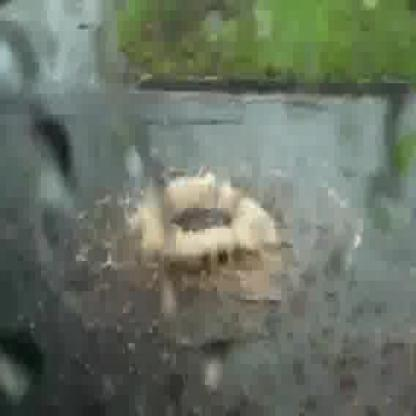drainage overflow-repair-: (92, 150, 293, 304)
